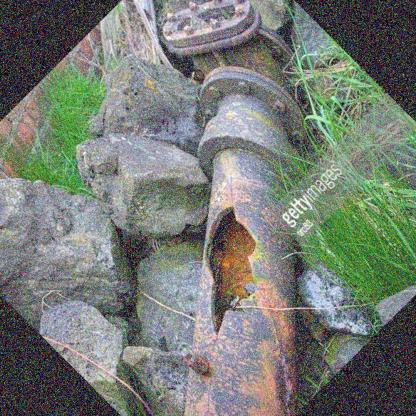burst: (199, 205, 263, 344)
